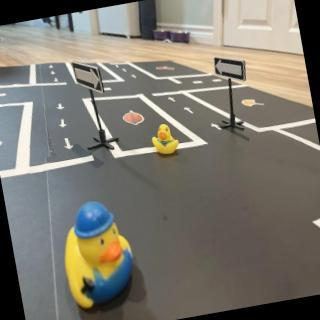duck_regular: (151, 122, 183, 160)
duck_specialty: (56, 198, 143, 317)
road_oneway: (63, 136, 77, 154), (210, 121, 224, 136), (57, 116, 70, 131), (185, 104, 198, 118), (56, 102, 66, 114), (168, 96, 180, 106), (131, 73, 140, 82), (122, 68, 129, 76), (49, 64, 55, 71), (51, 70, 57, 77), (55, 77, 61, 84)
sign_oneway_left: (214, 54, 250, 88)
sign_oneway_right: (69, 60, 106, 99)
